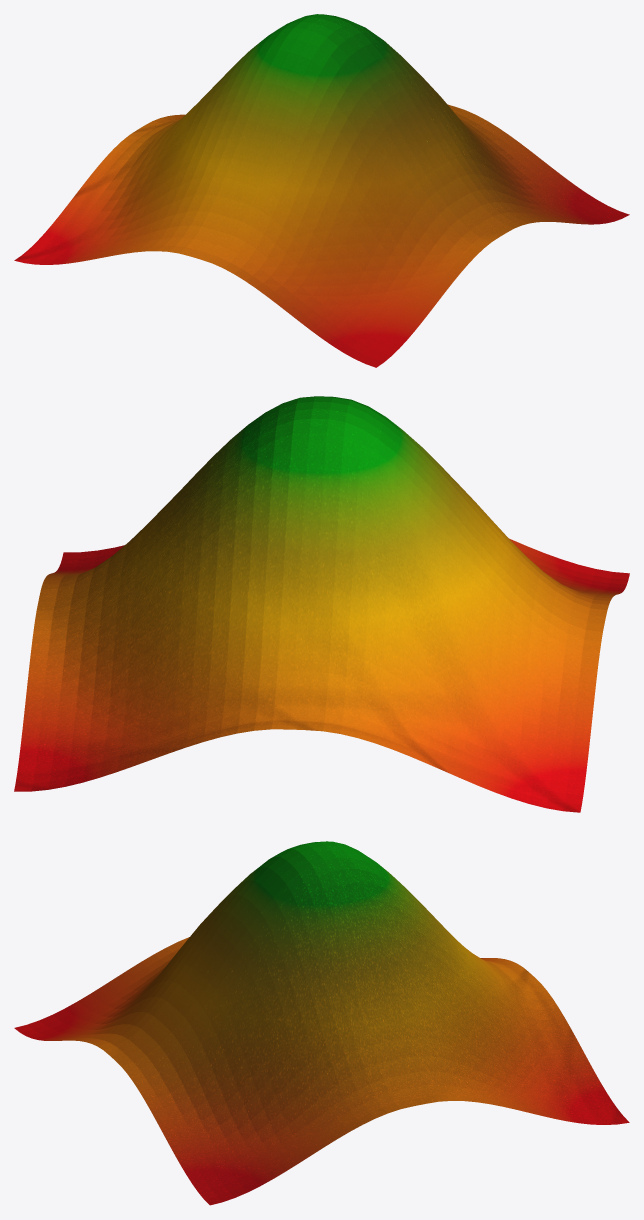
The model's file is graphic.glb.
3 views of the same model, one above another, from view 1: azimuth 30°, elevation 25°; view 2: azimuth 150°, elevation 25°; view 3: azimuth 270°, elevation 25° (orthographic). The views are drawn at different scales.
Parts seen in each view (by area): view 1: graphic; view 2: graphic; view 3: graphic.
Boxes of the visible parts, x1=… form: graphic: x1=14, y1=14, x2=629, y2=367; graphic: x1=14, y1=396, x2=629, y2=812; graphic: x1=14, y1=841, x2=629, y2=1205.
Bounding box in the file's own units: 3.56 × 1.44 × 3.56.
1 material, 1 textured.
